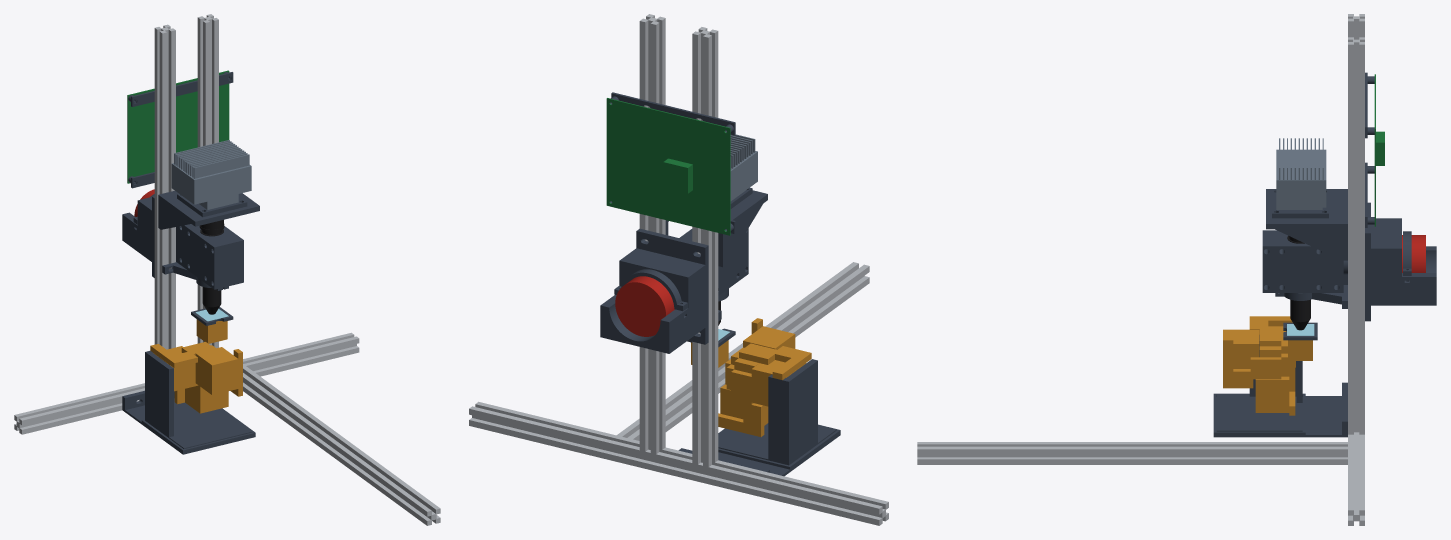
The model's file is stepper.glb.
3 renders of one model, left to right at view 1: azimuth 30°, elevation 25°; view 2: azimuth 150°, elevation 25°; view 3: azimuth 270°, elevation 25°, orthographic. The views are drawn at different scales.
Parts seen in each view (by area): view 1: upright left, bar B (base), bar A (base), projector light engine, stage: stand, main board, upright right, beamsplitter holder base, stage: motor X, projector bracket, camera clamp block, stage base (+7 smaller); view 2: main board, bar A (base), camera clamp block, upright left, stage: stand, upright right, bar B (base), camera ASI174MM, stage: motor mount Y, projector bracket, projector light engine, stage base (+7 smaller); view 3: bar B (base), upright right, camera clamp block, beamsplitter holder cover, projector light engine, projector bracket, stage: stand, stage base, stage: motor mount X, bar A (base), stage: motor Y, stage: motor X (+5 smaller).
Part boxes in pixels (x1,y1,x2,y2): upright left: [154, 24, 175, 349]; bar B (base): [243, 366, 440, 525]; bar A (base): [14, 332, 359, 434]; projector light engine: [171, 140, 251, 209]; stage: stand: [145, 350, 252, 448]; main board: [127, 70, 229, 183]; upright right: [197, 14, 218, 348]; beamsplitter holder base: [176, 224, 229, 289]; stage: motor X: [195, 347, 238, 395]; projector bracket: [158, 190, 259, 229]; camera clamp block: [122, 196, 154, 277]; stage base: [122, 390, 255, 454]; main board: [606, 98, 730, 235]; bar A (base): [469, 401, 888, 525]; camera clamp block: [600, 228, 708, 353]; upright left: [692, 27, 718, 466]; stage: stand: [718, 359, 836, 465]; upright right: [639, 14, 665, 454]; bar B (base): [616, 262, 869, 440]; camera ASI174MM: [615, 276, 674, 336]; stage: motor mount Y: [718, 369, 764, 436]; projector bracket: [665, 190, 767, 267]; projector light engine: [730, 134, 757, 200]; stage base: [678, 424, 840, 476]; bar B (base): [917, 442, 1347, 464]; upright right: [1348, 37, 1364, 434]; camera clamp block: [1365, 202, 1436, 321]; beamsplitter holder cover: [1262, 238, 1343, 292]; projector light engine: [1276, 138, 1326, 209]; projector bracket: [1266, 189, 1347, 260]; stage: stand: [1216, 335, 1302, 431]; stage base: [1213, 382, 1347, 437]; stage: motor mount X: [1223, 337, 1281, 388]; bar A (base): [1348, 432, 1364, 525]; stage: motor Y: [1255, 376, 1289, 412]; stage: motor X: [1223, 329, 1259, 368].
Size of the model in its own units: 0.5 by 0.52 by 0.603.
